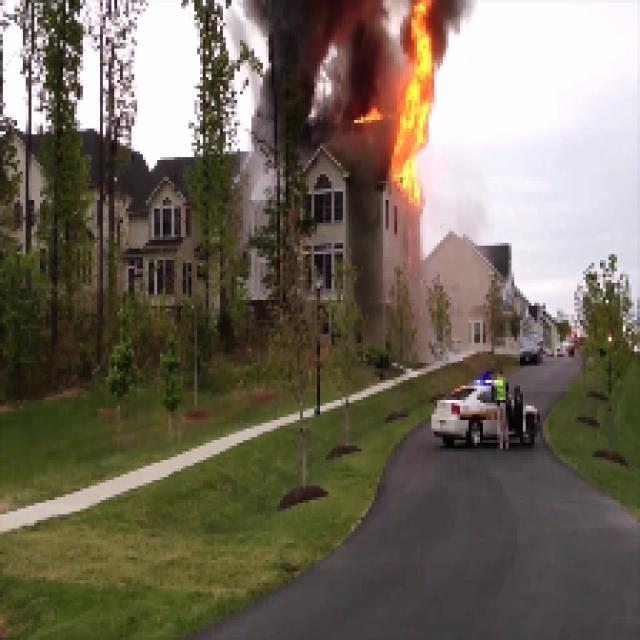Fire: (401, 8, 436, 202)
Smoke: (272, 4, 386, 121)
